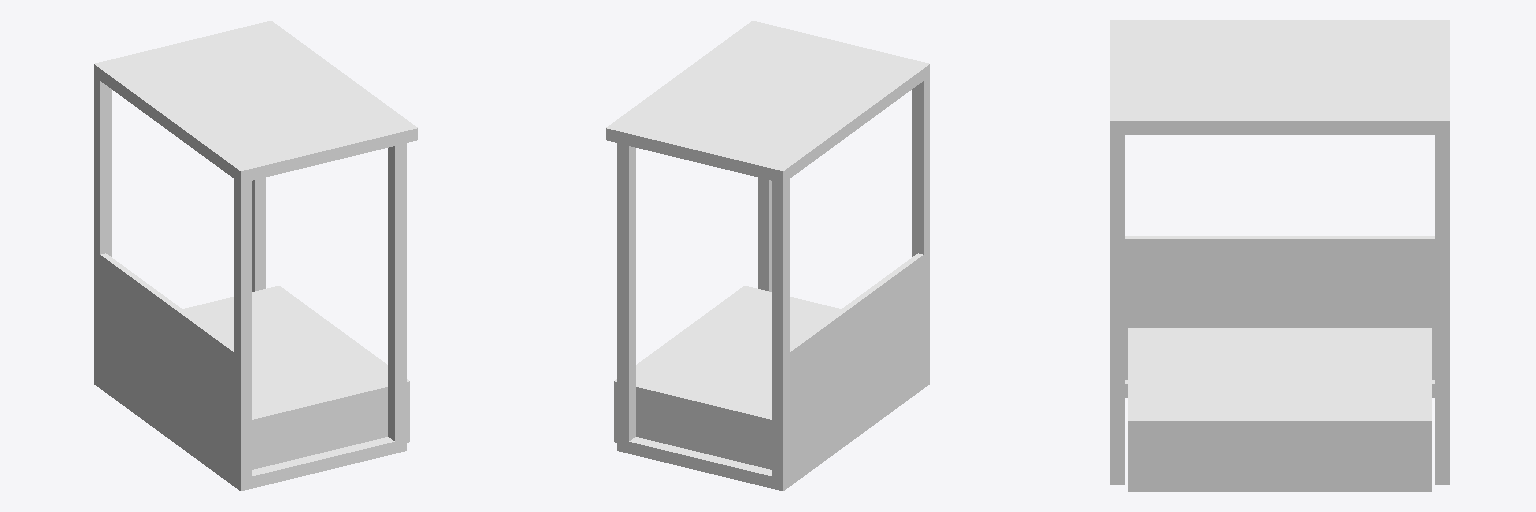
URDF robot description (hdz_simplified):
<?xml version="1.0" encoding="utf-8"?>
<!-- This URDF was automatically created by SolidWorks to URDF Exporter! Originally created by [author] ([email redacted]) 
     Commit Version: 1.6.0-1-g15f4949  Build Version: 1.6.7594.29634
     For more information, please see http://wiki.ros.org/sw_urdf_exporter -->
<robot
  name="hdz_simplified">
  <link
    name="base_link">
    <inertial>
      <origin
        xyz="5.2042E-18 4.4255E-17 0.0025"
        rpy="0 0 0" />
      <mass
        value="3.1175" />
      <inertia
        ixx="0.13172"
        ixy="8.8751E-19"
        ixz="5.1381E-20"
        iyy="0.20619"
        iyz="5.4212E-20"
        izz="0.3379" />
    </inertial>
    <visual>
      <origin
        xyz="0 0 0"
        rpy="0 0 0" />
      <geometry>
        <mesh
          filename="package://hdz_simplified/meshes/base_link.STL" />
      </geometry>
      <material
        name="">
        <color
          rgba="1 1 1 1" />
      </material>
    </visual>
    <collision>
      <origin
        xyz="0 0 0"
        rpy="0 0 0" />
      <geometry>
        <mesh
          filename="package://hdz_simplified/meshes/base_link.STL" />
      </geometry>
    </collision>
  </link>
  <link
    name="base_frame_link">
    <inertial>
      <origin
        xyz="0.0088033 8.2139E-17 0.14288"
        rpy="0 0 0" />
      <mass
        value="15.553" />
      <inertia
        ixx="0.42803"
        ixy="6.1895E-17"
        ixz="-0.037958"
        iyy="0.31512"
        iyz="-1.7925E-17"
        izz="0.36" />
    </inertial>
    <visual>
      <origin
        xyz="0 0 0"
        rpy="0 0 0" />
      <geometry>
        <mesh
          filename="package://hdz_simplified/meshes/base_frame_link.STL" />
      </geometry>
      <material
        name="">
        <color
          rgba="1 1 1 1" />
      </material>
    </visual>
    <collision>
      <origin
        xyz="0 0 0"
        rpy="0 0 0" />
      <geometry>
        <mesh
          filename="package://hdz_simplified/meshes/base_frame_link.STL" />
      </geometry>
    </collision>
  </link>
  <joint
    name="base_frame_joint"
    type="fixed">
    <origin
      xyz="-0.23005 0 0.005"
      rpy="0 0 0" />
    <parent
      link="base_link" />
    <child
      link="base_frame_link" />
    <axis
      xyz="0 0 0" />
  </joint>
</robot>

--- Render facts (derived) ---
The picture shows the robot from 3 angles, left to right: view 1: azimuth 30°, elevation 25°; view 2: azimuth 150°, elevation 25°; view 3: azimuth 270°, elevation 25°; orthographic projection.
Robot: hdz_simplified — 2 links, 1 joints (1 fixed); root link base_link; default pose: every joint at zero.
Links seen in each view (by area): view 1: base_frame_link; view 2: base_frame_link; view 3: base_frame_link.
Link boxes in pixels (<box>): base_frame_link: <box>94,21,417,490</box>; base_frame_link: <box>606,21,929,490</box>; base_frame_link: <box>1110,20,1449,491</box>.
Size in the robot's own frame: 0.305 by 0.437 by 0.525 metres.
Meshes: 2 distinct files referenced, 1 mesh visuals loaded (1 binary STL); not drawn: 1 (reference not matched to a file when rendering).